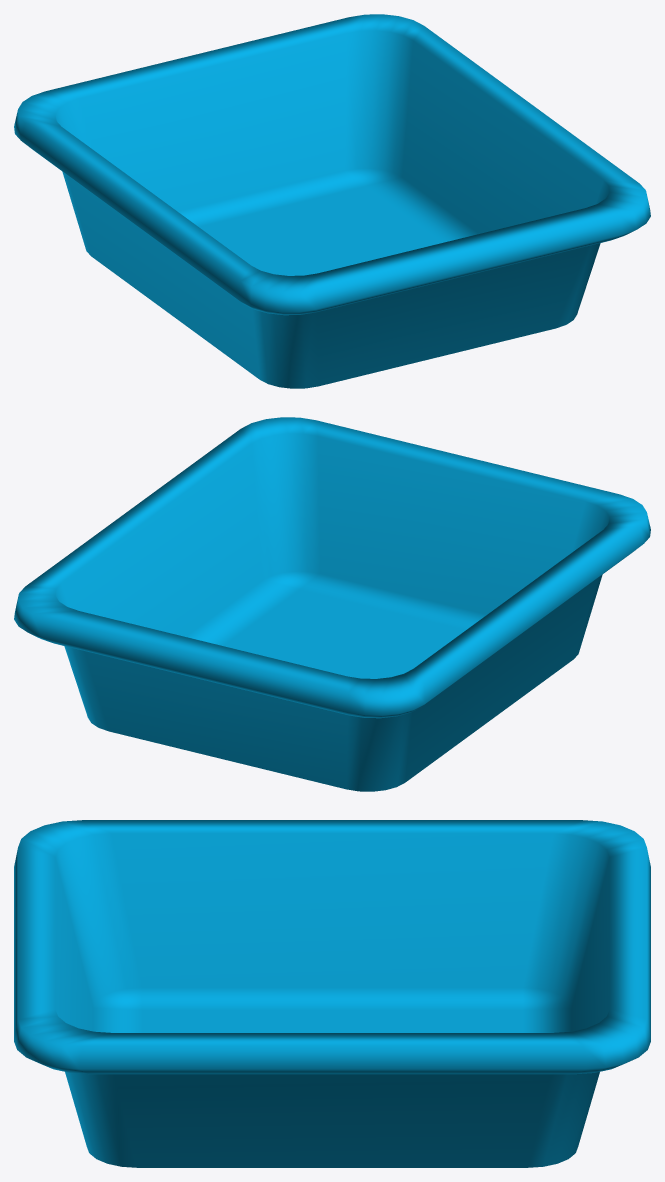
Rendered from Kitchen_Sink_01_Lod0.fbx.
3 views of the same model, one above another, from view 1: azimuth 30°, elevation 25°; view 2: azimuth 150°, elevation 25°; view 3: azimuth 270°, elevation 25° (orthographic). The views are drawn at different scales.
Visible parts, largest first — view 1: Kitchen_Sink_01_Lod0; view 2: Kitchen_Sink_01_Lod0; view 3: Kitchen_Sink_01_Lod0.
Part boxes in pixels (x1=…): Kitchen_Sink_01_Lod0: x1=14, y1=14, x2=650, y2=388; Kitchen_Sink_01_Lod0: x1=14, y1=417, x2=650, y2=791; Kitchen_Sink_01_Lod0: x1=14, y1=820, x2=650, y2=1167.
Bounding box in the file's own units: 61.58 × 18.41 × 72.36.
